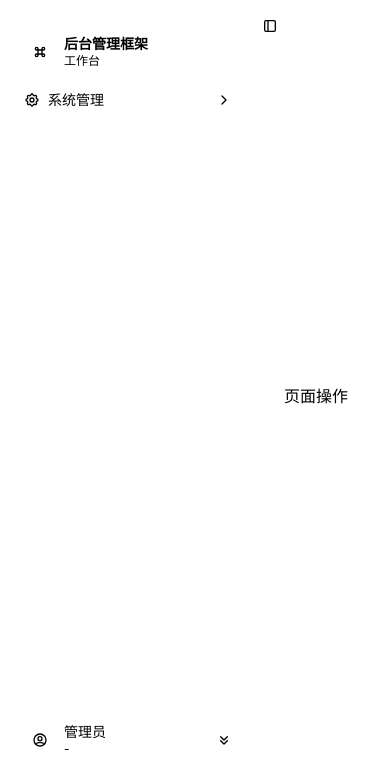
Test case: sidebar navigation › renders one interactive group without a duplicate heading and filters unauthorized children
Expected: the text "系统管理" is shown once, [48,91,104,108]
Click the button "系统管理". click: (128, 100)
box: [16,84,240,116]
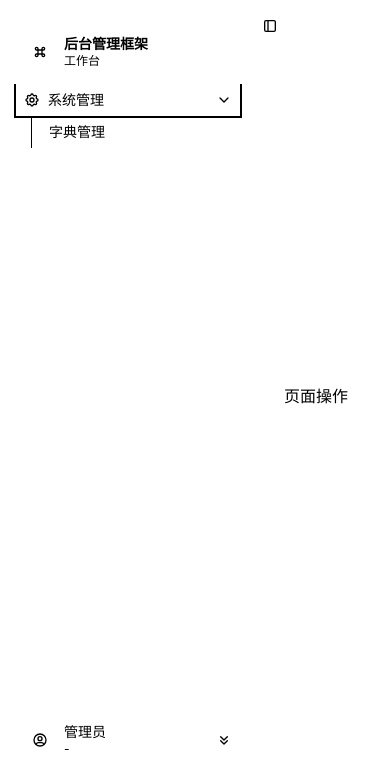
Now the link "字典管理" is shown, box [49,123,105,140]
